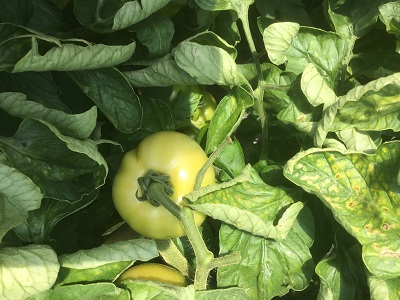immature-tomato: (113, 130, 214, 241)
